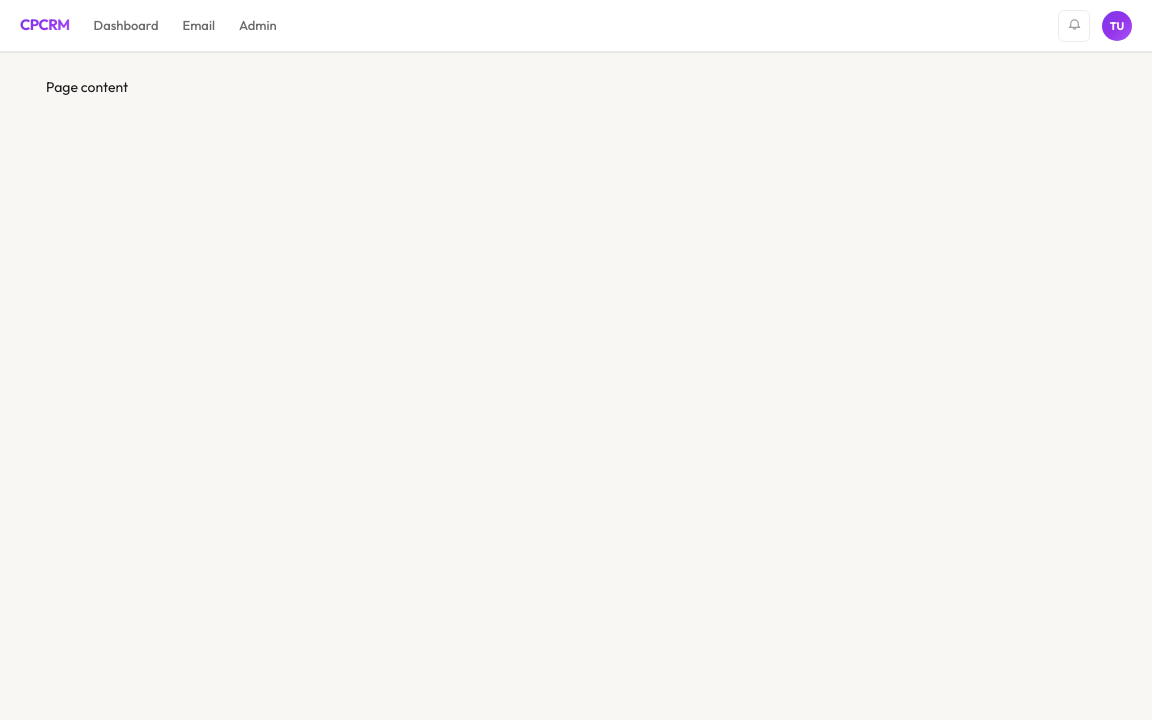
Scenario: AppShell › renders Admin links inside the profile dropdown
The image size is (1152, 720).
Expected: the menu item "Object manager" is not shown
Open the profile dropdown
Click the button with aria-label "User menu": x=1117, y=26 [1102, 10, 1132, 40]
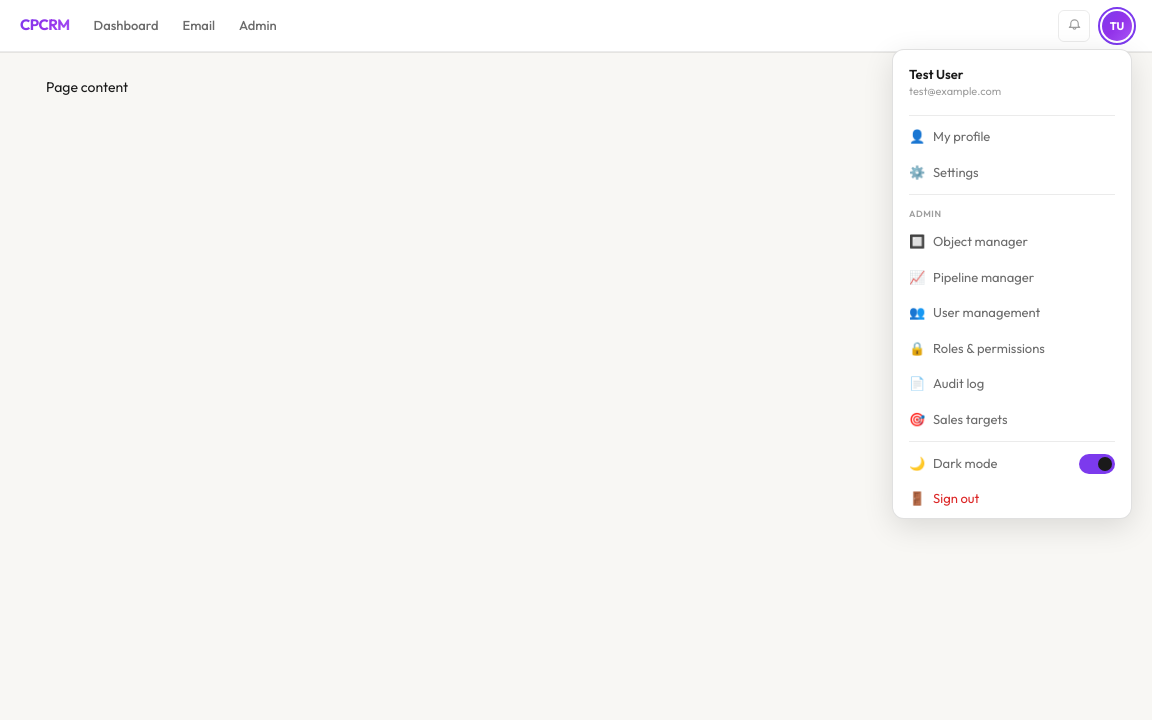
Result: the menu item "🔲 Object manager" is shown at [909, 233, 1028, 249]
Result: the menu item "📈 Pipeline manager" is shown at [909, 269, 1034, 285]
